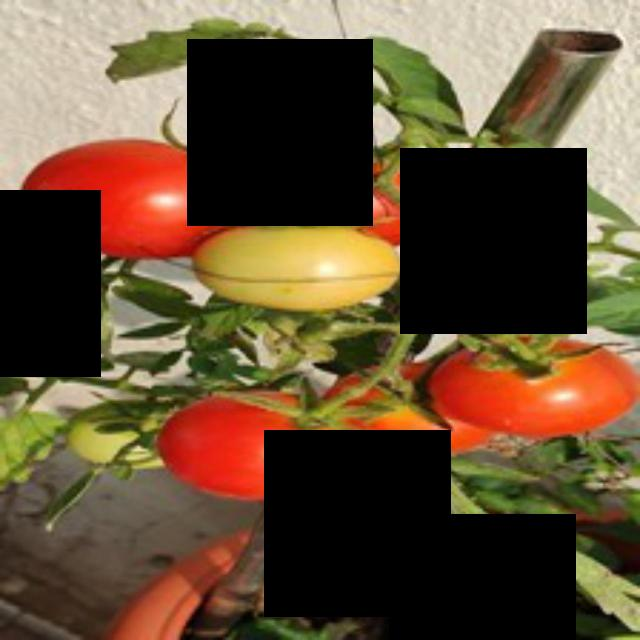tomato: (15, 126, 282, 275), (414, 326, 637, 446), (166, 391, 383, 502), (349, 518, 504, 590)
